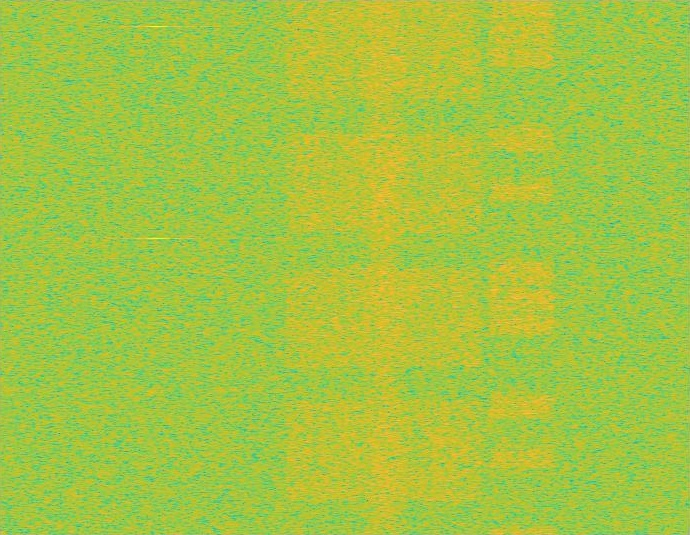5G: (280, 0, 487, 534)
DSSS: (360, 0, 407, 534)
LTE: (487, 0, 556, 534)
Radar: (151, 0, 164, 534)
